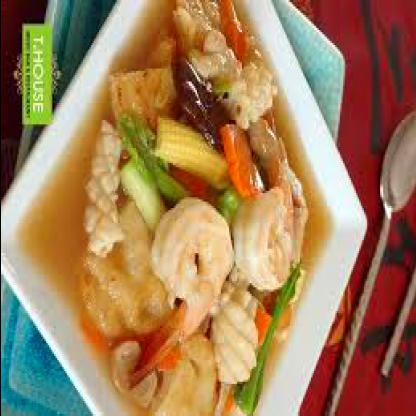Laadna: (35, 6, 342, 414)
